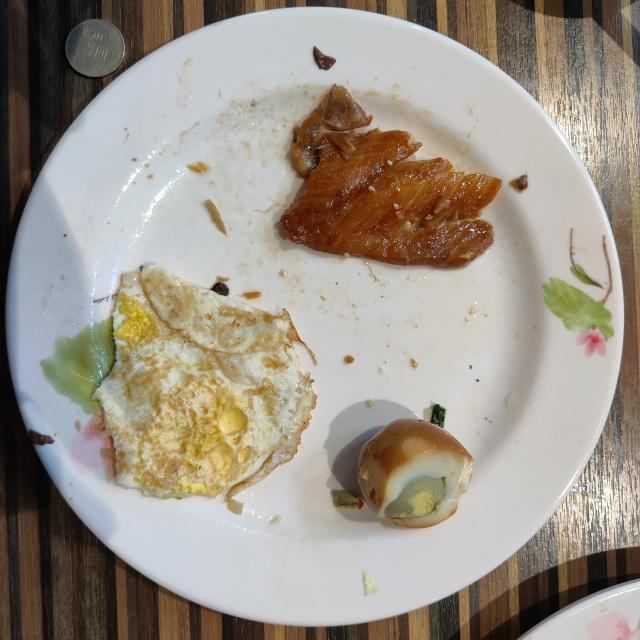Kabayaki sea bream fillet: (280, 86, 501, 268)
coin: (65, 19, 125, 78)
soy egg: (358, 419, 474, 528)
